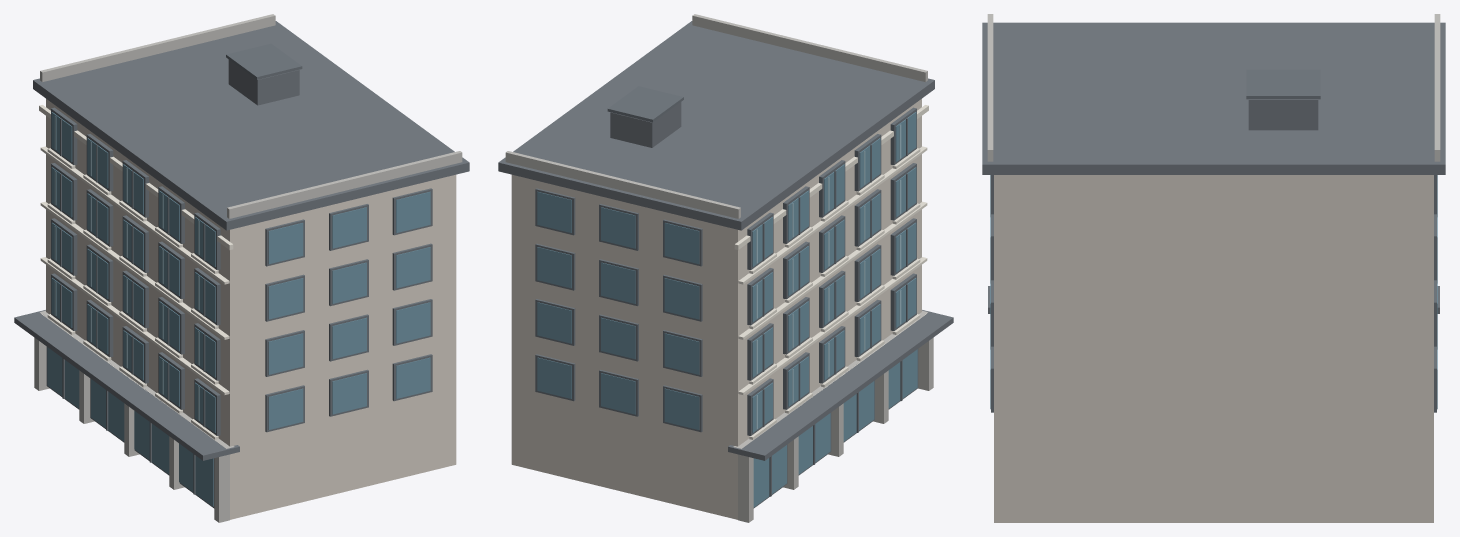
Rendered from edificio_v25_1.glb.
3 renders of one model, left to right at view 1: azimuth 30°, elevation 25°; view 2: azimuth 150°, elevation 25°; view 3: azimuth 270°, elevation 25°, orthographic. The views are drawn at different scales.
Parts seen in each view (by area): view 1: stone, roof, glass, frame, concrete, trim, glasslight; view 2: stone, roof, glass, frame, concrete, trim, glasslight; view 3: stone, roof, frame, concrete.
Boxes of the visible parts, x1,y1,x2,y2 form: stone: [46, 99, 456, 519]; roof: [14, 21, 469, 460]; glass: [47, 112, 430, 506]; frame: [46, 43, 432, 508]; concrete: [34, 14, 462, 522]; trim: [39, 105, 233, 439]; glasslight: [54, 116, 199, 420]; stone: [511, 99, 921, 519]; roof: [498, 21, 953, 460]; glass: [537, 112, 917, 507]; frame: [535, 86, 918, 508]; concrete: [505, 14, 933, 522]; trim: [734, 105, 928, 439]; glasslight: [756, 124, 901, 429]; stone: [994, 175, 1433, 522]; roof: [982, 22, 1445, 313]; frame: [991, 69, 1436, 412]; concrete: [987, 14, 1440, 161].
Bounding box in the file's own units: 15.75 × 18.98 × 20.
